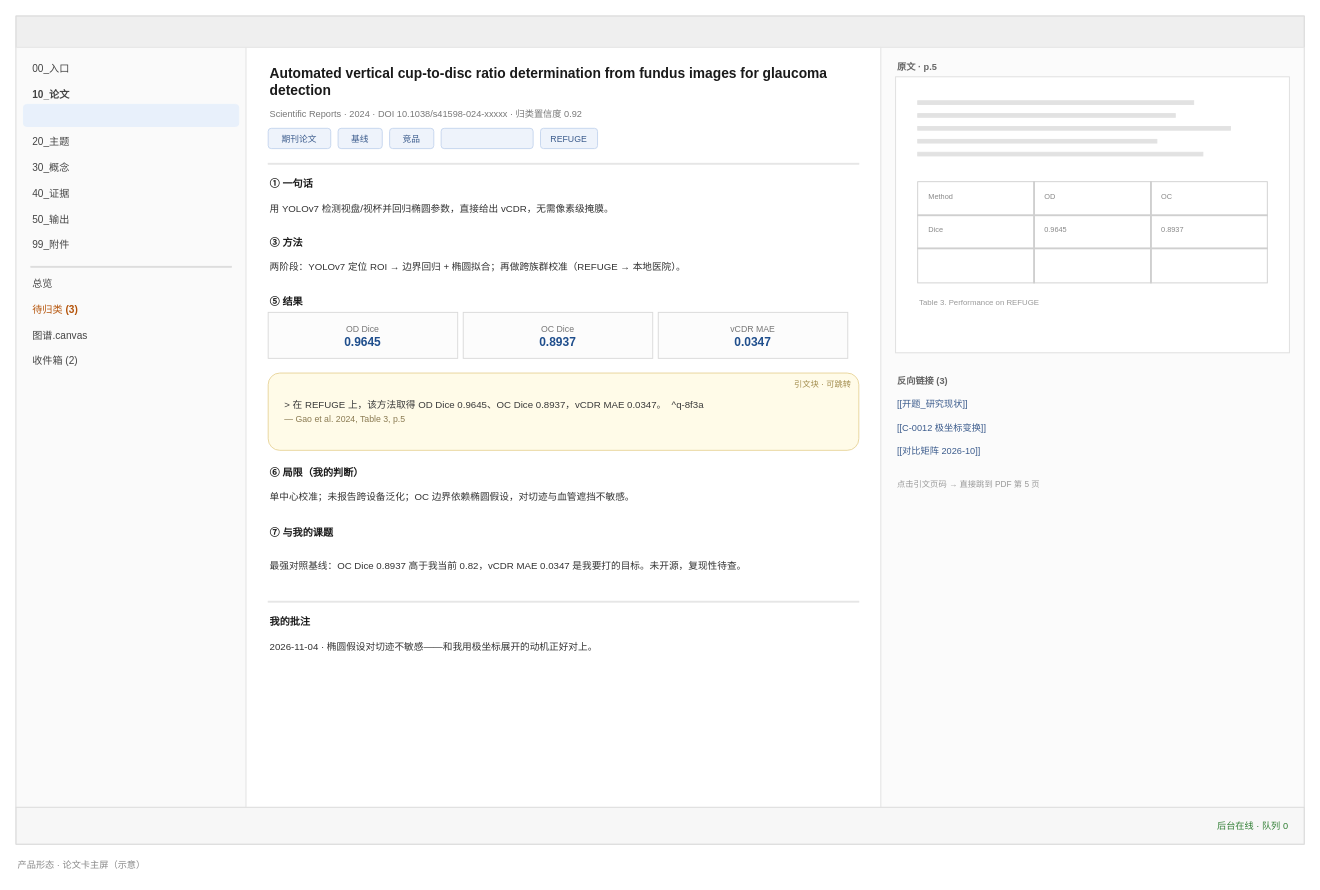
This 1320x890 diagram has some shape labels left out. Here are the shapes that lost their labels. From the top down, the box of each, then its label:
(15, 15, 1304, 47): Obsidian — 05_文献库 / 10_论文 / gao2024vcdr
(23, 104, 239, 126): gao2024vcdr
(440, 127, 533, 149): 视盘视杯分割
(15, 806, 1304, 844): 状态 精读 · 证据 5 条 · 归类置信度 0.92 · 最后更新 2026-11-04 15:20
